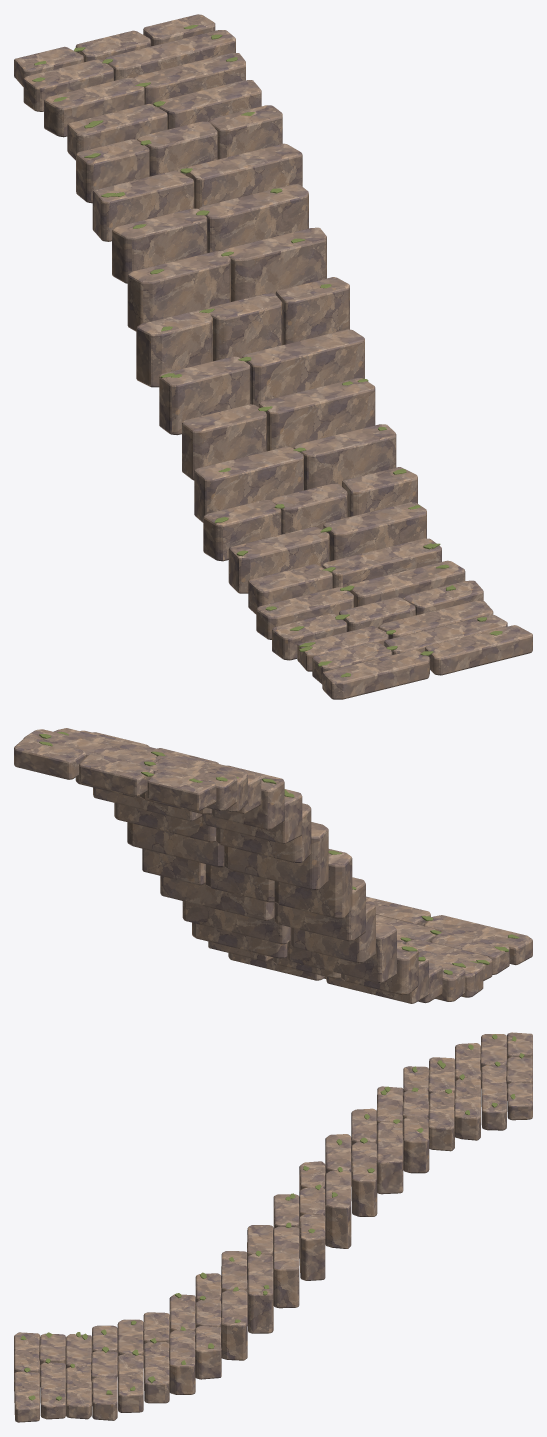
The model's file is stone-steps.glb.
3 renders of one model, top to bottom at view 1: azimuth 30°, elevation 25°; view 2: azimuth 150°, elevation 25°; view 3: azimuth 270°, elevation 25°, orthographic. The views are drawn at different scales.
Visible parts, largest first — view 1: Old limestone — 2, Old limestone — 3, Old limestone — 0, Old limestone — 1, Dry olive moss in old joints; view 2: Old limestone — 2, Old limestone — 3, Old limestone — 0, Old limestone — 1, Dry olive moss in old joints; view 3: Old limestone — 2, Old limestone — 3, Old limestone — 0, Old limestone — 1, Dry olive moss in old joints.
Part boxes in pixels (x1=…): Old limestone — 2: x1=44, y1=14, x2=493, y2=684; Old limestone — 3: x1=67, y1=53, x2=507, y2=699; Old limestone — 0: x1=14, y1=46, x2=532, y2=675; Old limestone — 1: x1=23, y1=30, x2=415, y2=671; Dry olive moss in old joints: x1=32, y1=25, x2=502, y2=677; Old limestone — 2: x1=14, y1=729, x2=509, y2=1003; Old limestone — 3: x1=53, y1=728, x2=532, y2=1001; Old limestone — 0: x1=80, y1=730, x2=483, y2=997; Old limestone — 1: x1=79, y1=748, x2=492, y2=1003; Dry olive moss in old joints: x1=39, y1=731, x2=519, y2=974; Old limestone — 2: x1=39, y1=1043, x2=532, y2=1420; Old limestone — 3: x1=14, y1=1057, x2=480, y2=1419; Old limestone — 0: x1=14, y1=1032, x2=532, y2=1422; Old limestone — 1: x1=65, y1=1034, x2=532, y2=1381; Dry olive moss in old joints: x1=20, y1=1034, x2=524, y2=1400.
Size of the model in its own units: 2.83 by 5.25 by 7.8.
Materials: 5 (4 with a texture image).
